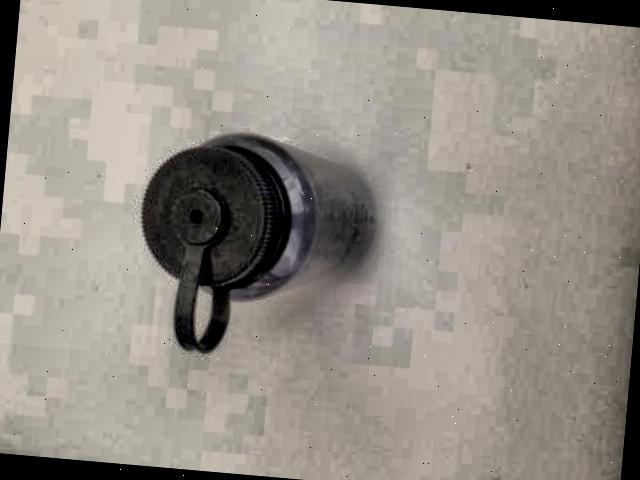Plastic: (88, 88, 410, 388)
